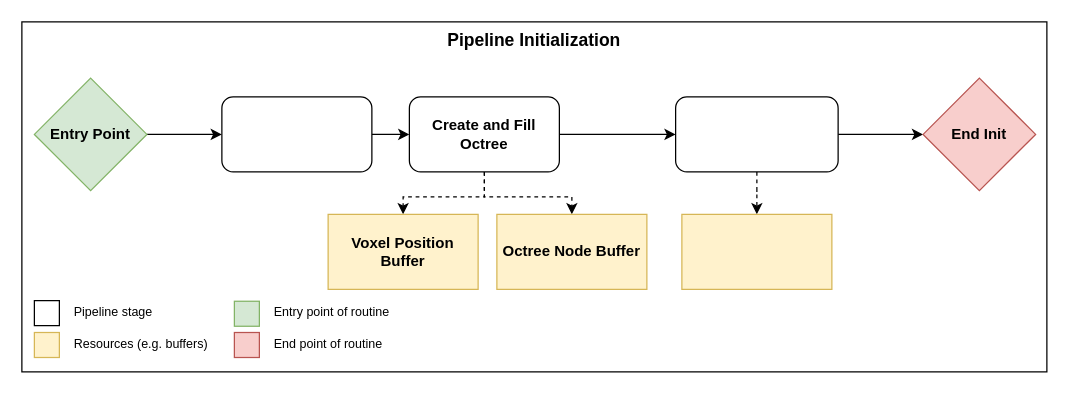
The diagram is 1069 pixels wide and 394 high, and some of its shapes have lost their labels. The box of each missing label's shape, as (x1, y1, x2, y2) in pixels:
Best Occluder Buffer: (681, 213, 832, 289)
Find Best Occluders: (674, 96, 838, 172)
Load Model: (221, 96, 372, 172)
